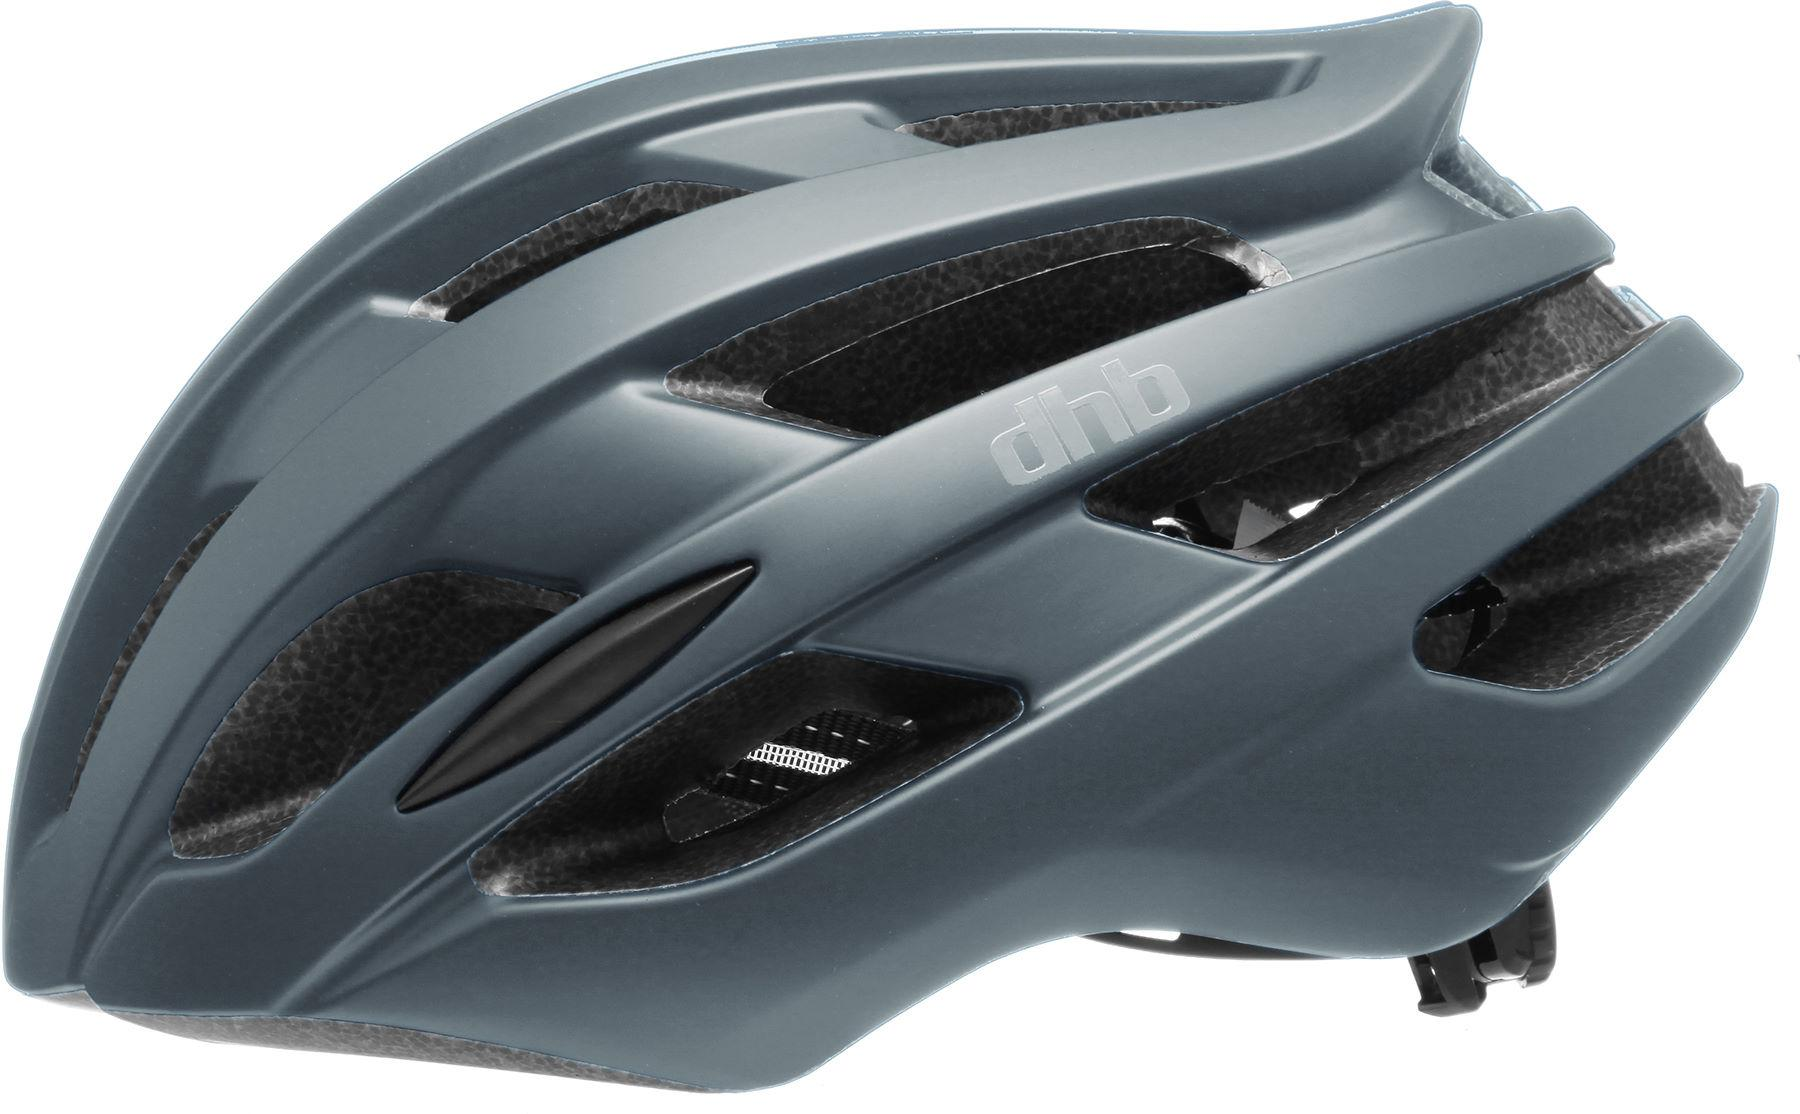Helmet: (31, 134, 1776, 1097), (91, 35, 1313, 684)
